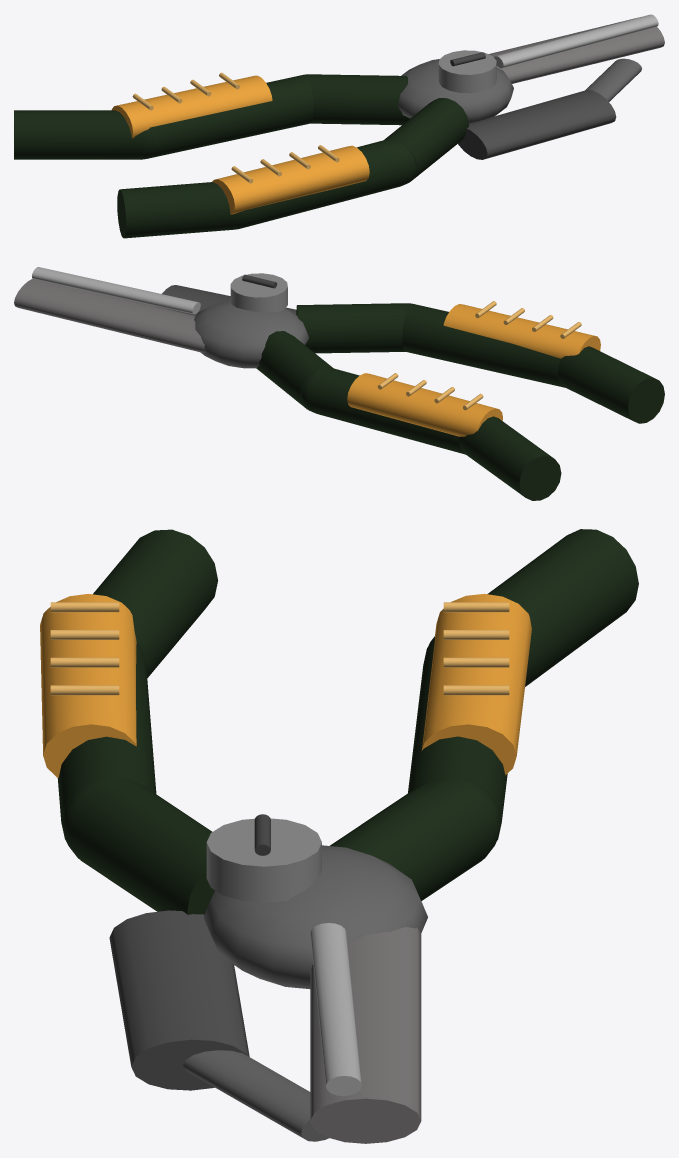
Rendered from CMU3DHandHydroponicsToolClippersCloud.glb.
The picture shows the model from 3 angles, top to bottom: view 1: azimuth 30°, elevation 25°; view 2: azimuth 150°, elevation 25°; view 3: azimuth 270°, elevation 25°; orthographic projection. The views are drawn at different scales.
Visible parts, largest first — view 1: upper green handle frame segment 1, upper green handle frame segment 2, lower bypass blade, lower green handle frame segment 1, lower orange grip insert, upper green handle frame segment 3, upper orange grip insert, lower green handle frame segment 2, upper blade spine, upper blade root, lower green handle frame segment 3, upper blade bevel (+2 smaller); view 2: upper blade spine, lower green handle frame segment 2, lower green handle frame segment 3, upper orange grip insert, lower green handle frame segment 1, upper green handle frame segment 1, upper blade root, lower orange grip insert, upper green handle frame segment 2, upper green handle frame segment 3, upper blade bevel, joint pin (+1 smaller); view 3: lower bypass blade, upper blade spine, upper blade root, lower green handle frame segment 3, upper green handle frame segment 1, upper orange grip insert, lower orange grip insert, upper green handle frame segment 3, lower green handle frame segment 1, joint pin, upper blade bevel, lower blade tapered tip (+2 smaller).
Boxes of the visible parts, x1=… form: upper green handle frame segment 1: x1=14, y1=110, x2=141, y2=159; upper green handle frame segment 2: x1=146, y1=74, x2=313, y2=158; lower bypass blade: x1=458, y1=90, x2=616, y2=159; lower green handle frame segment 1: x1=117, y1=182, x2=238, y2=238; lower orange grip insert: x1=212, y1=145, x2=369, y2=214; upper green handle frame segment 3: x1=308, y1=74, x2=409, y2=125; upper orange grip insert: x1=111, y1=75, x2=272, y2=138; lower green handle frame segment 2: x1=239, y1=139, x2=407, y2=228; upper blade spine: x1=488, y1=17, x2=664, y2=83; upper blade root: x1=397, y1=59, x2=513, y2=123; lower green handle frame segment 3: x1=384, y1=98, x2=468, y2=181; upper blade bevel: x1=494, y1=14, x2=658, y2=68; upper blade spine: x1=14, y1=278, x2=206, y2=352; lower green handle frame segment 2: x1=402, y1=303, x2=564, y2=387; lower green handle frame segment 3: x1=296, y1=303, x2=407, y2=353; upper orange grip insert: x1=347, y1=373, x2=502, y2=436; lower green handle frame segment 1: x1=558, y1=346, x2=664, y2=423; upper green handle frame segment 1: x1=459, y1=416, x2=561, y2=500; upper blade root: x1=194, y1=300, x2=308, y2=368; lower orange grip insert: x1=443, y1=304, x2=600, y2=358; upper green handle frame segment 2: x1=309, y1=367, x2=465, y2=454; upper green handle frame segment 3: x1=256, y1=331, x2=333, y2=409; upper blade bevel: x1=32, y1=267, x2=200, y2=314; joint pin: x1=230, y1=273, x2=287, y2=312; lower bypass blade: x1=109, y1=910, x2=249, y2=1090; upper blade spine: x1=310, y1=927, x2=421, y2=1143; upper blade root: x1=203, y1=845, x2=427, y2=989; lower green handle frame segment 3: x1=68, y1=777, x2=214, y2=914; upper green handle frame segment 1: x1=487, y1=529, x2=638, y2=686; upper orange grip insert: x1=422, y1=593, x2=531, y2=775; lower orange grip insert: x1=40, y1=594, x2=136, y2=777; upper green handle frame segment 3: x1=330, y1=777, x2=494, y2=900; lower green handle frame segment 1: x1=93, y1=529, x2=218, y2=677; joint pin: x1=206, y1=818, x2=321, y2=902; upper blade bevel: x1=310, y1=923, x2=361, y2=1096; lower blade tapered tip: x1=183, y1=1050, x2=328, y2=1141.
Size of the model in its own units: 0.6715 by 0.0842 by 0.2999.
